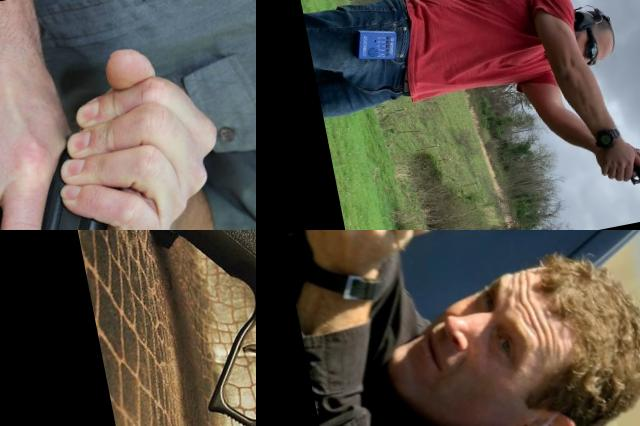handgun: (122, 230, 256, 426), (0, 117, 173, 230), (355, 230, 478, 284), (613, 141, 640, 205)
